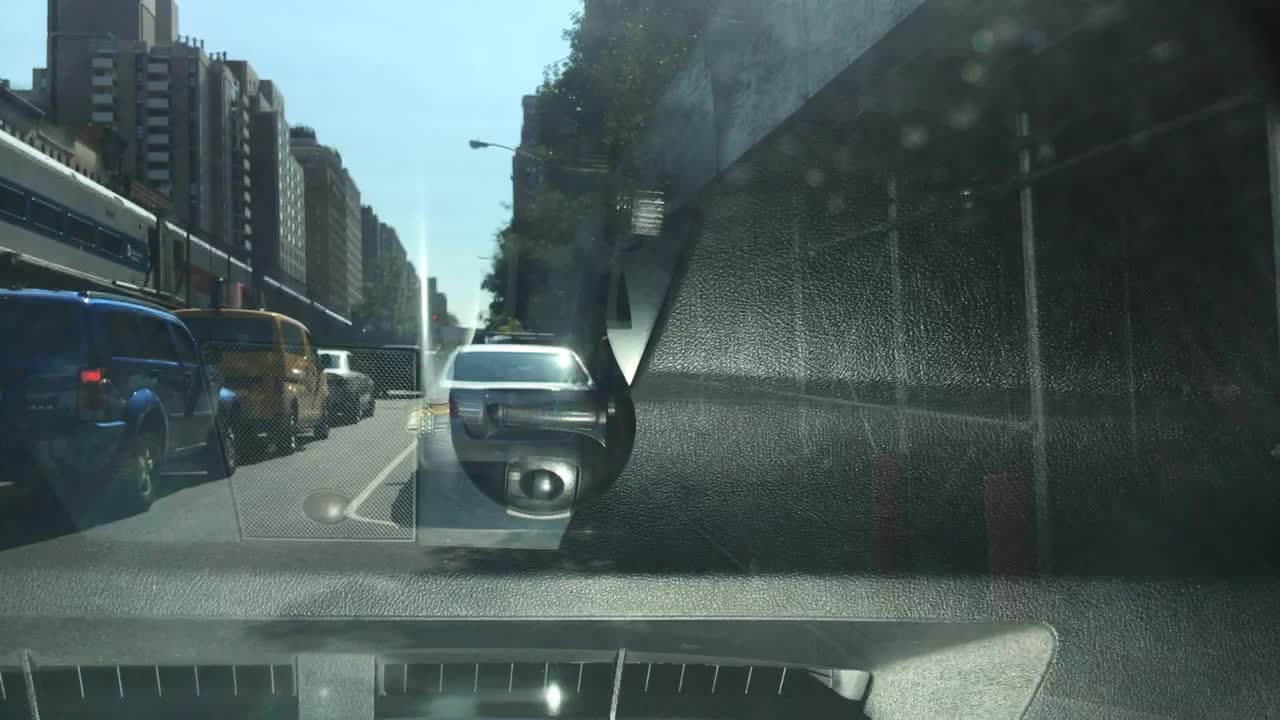car: (0, 281, 239, 504), (412, 328, 614, 501), (164, 305, 332, 451), (315, 347, 375, 425), (369, 342, 428, 401), (417, 347, 444, 389)
traffic light: (430, 308, 439, 320)
train: (1, 128, 355, 343)
